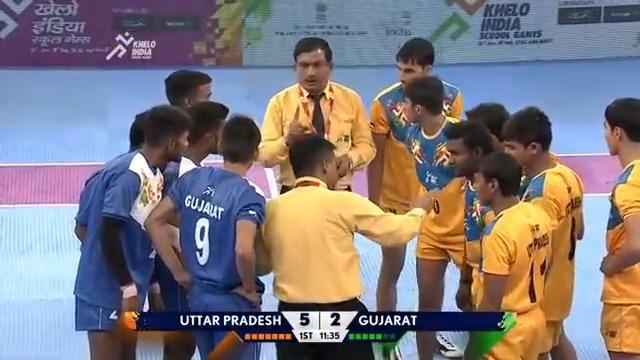Player: (72, 36, 586, 358), (255, 132, 429, 359), (366, 36, 464, 357), (72, 103, 192, 359), (144, 113, 269, 358), (499, 105, 585, 358), (461, 151, 555, 359), (598, 96, 639, 359)
referee: (256, 36, 377, 195)
